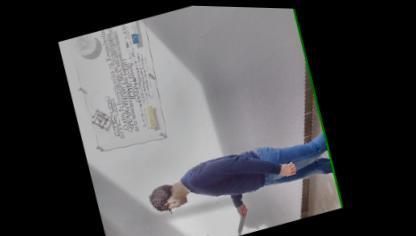knife: (232, 202, 256, 232)
